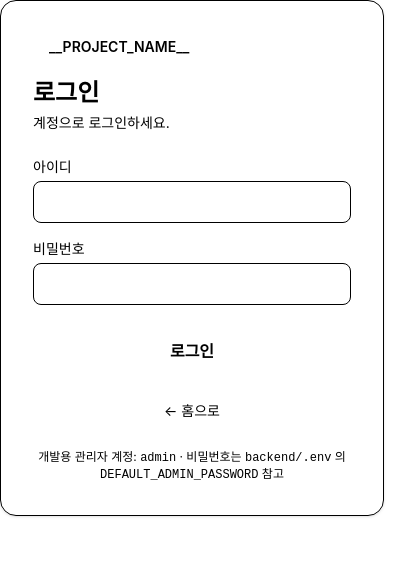
Scenario: LoginForm › Server Action 이 돌려준 오류 문구를 그대로 보여준다
Click the button "로그인".
click(192, 351)  # box [33,329,351,373]
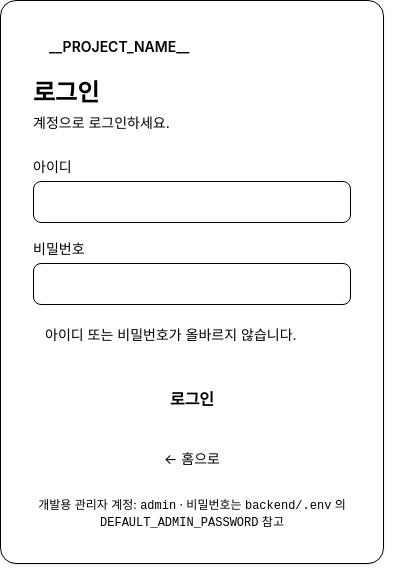
expect the message reads "아이디 또는 비밀번호가 올바르지 않습니다.": met, box [45,326,297,343]
